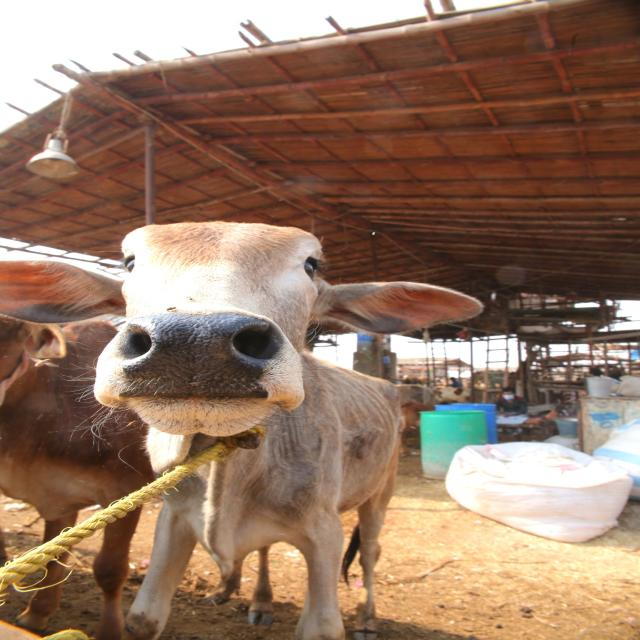muzzles: (106, 308, 292, 408)
